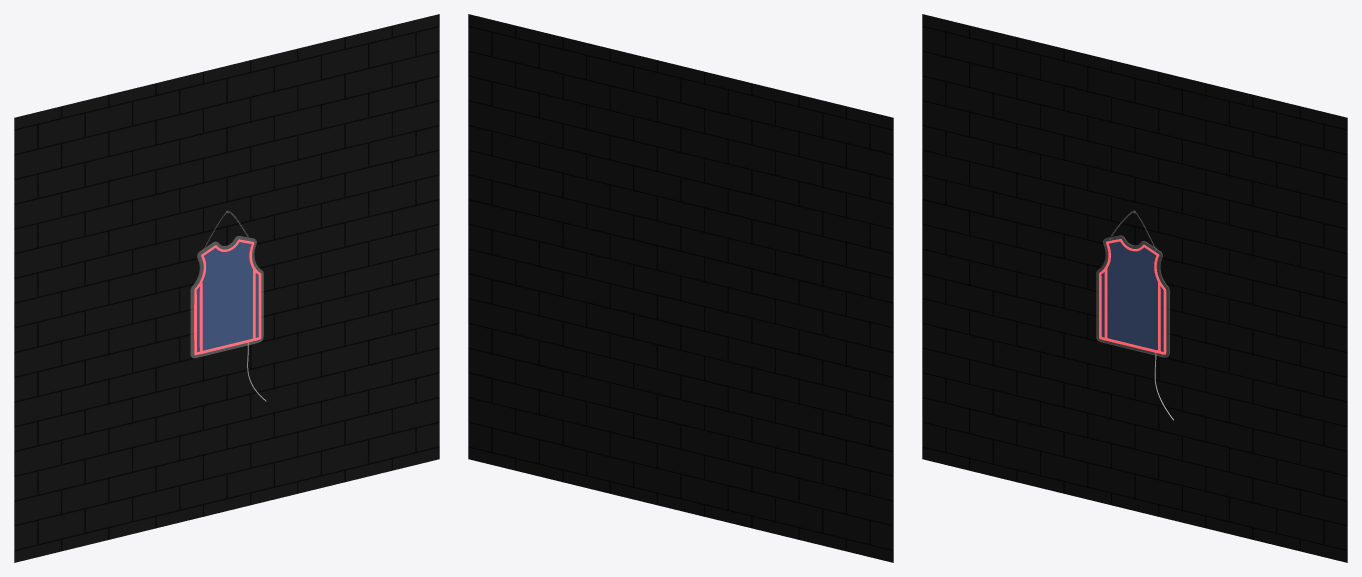
Rendered from Basketball.glb.
3 views of the same model, side by side, from view 1: azimuth 30°, elevation 25°; view 2: azimuth 150°, elevation 25°; view 3: azimuth 330°, elevation 25° (orthographic).
Parts seen in each view (by area): view 1: Plane.003, Glass.001, Jersey.001, Neon; view 2: Plane.003; view 3: Plane.003, Glass.001, Jersey.001, Neon.
Boxes of the visible parts, box(x1,y1,x2,y2) form: Plane.003: box(14, 14, 439, 562); Glass.001: box(190, 236, 263, 357); Jersey.001: box(196, 242, 257, 351); Neon: box(194, 239, 261, 355); Plane.003: box(468, 14, 893, 562); Plane.003: box(922, 14, 1347, 562); Glass.001: box(1096, 235, 1169, 357); Jersey.001: box(1102, 241, 1163, 351); Neon: box(1099, 239, 1166, 354).
Size of the model in its own units: 2.95 by 2.95 by 0.0222.
6 materials, 1 textured.
